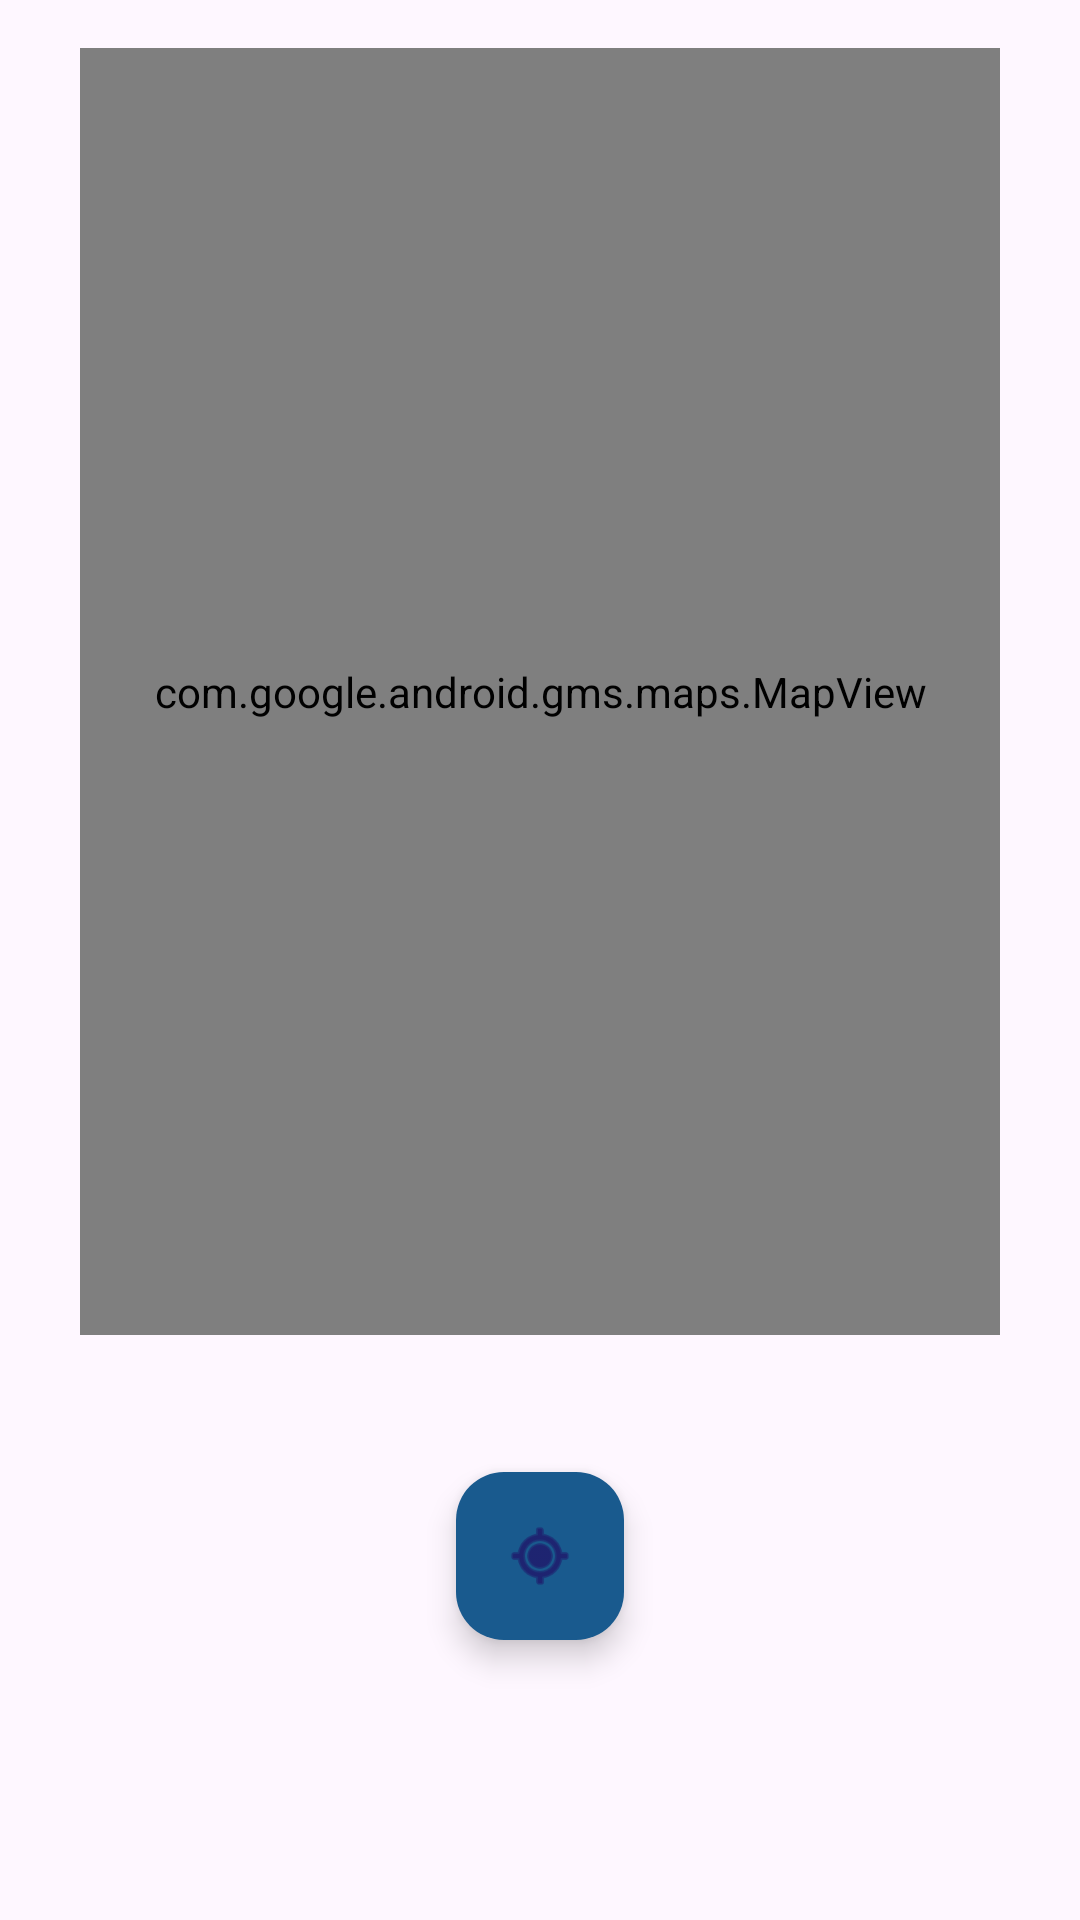

Point at icon controls on the screen. Image size 1080 × 1920, points as (x,y).
mylocation: (540,1556)
